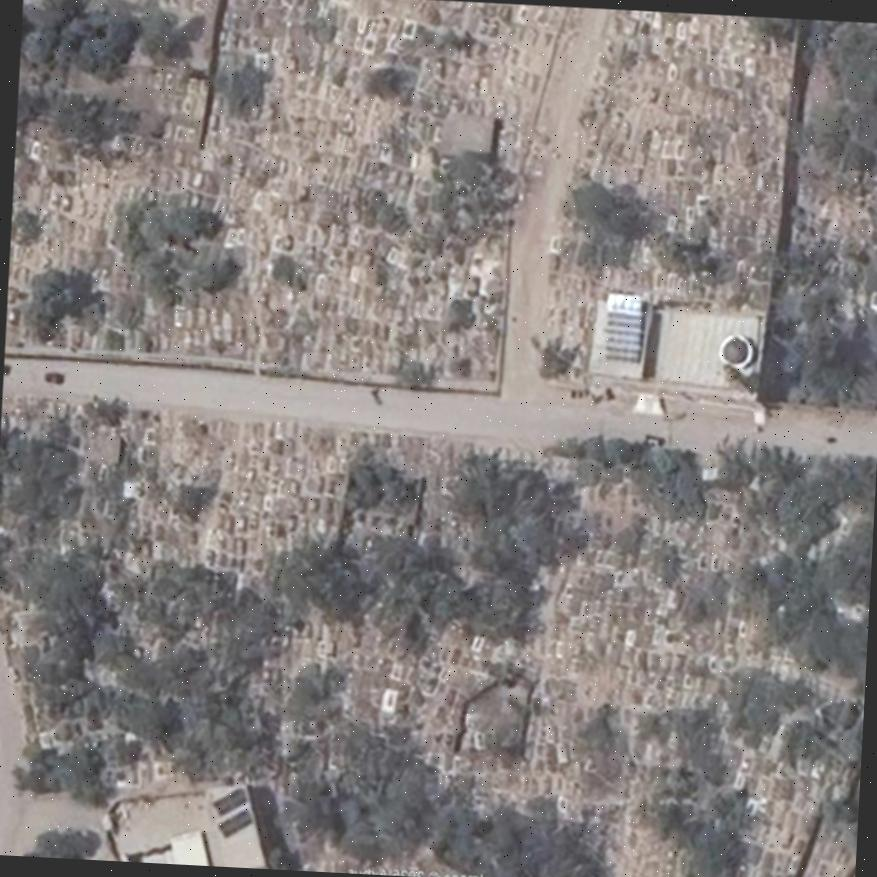Solarpanel: (605, 294, 640, 356), (213, 785, 246, 815), (218, 810, 251, 838)
